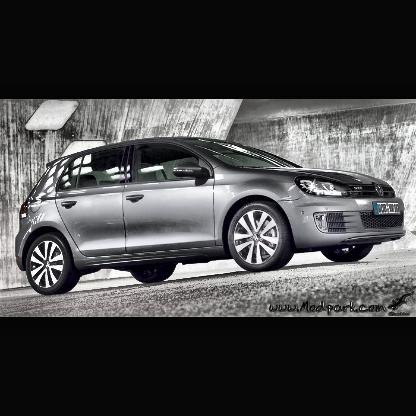Volkswagen Golf Hatchback 2012: (18, 136, 407, 297)
